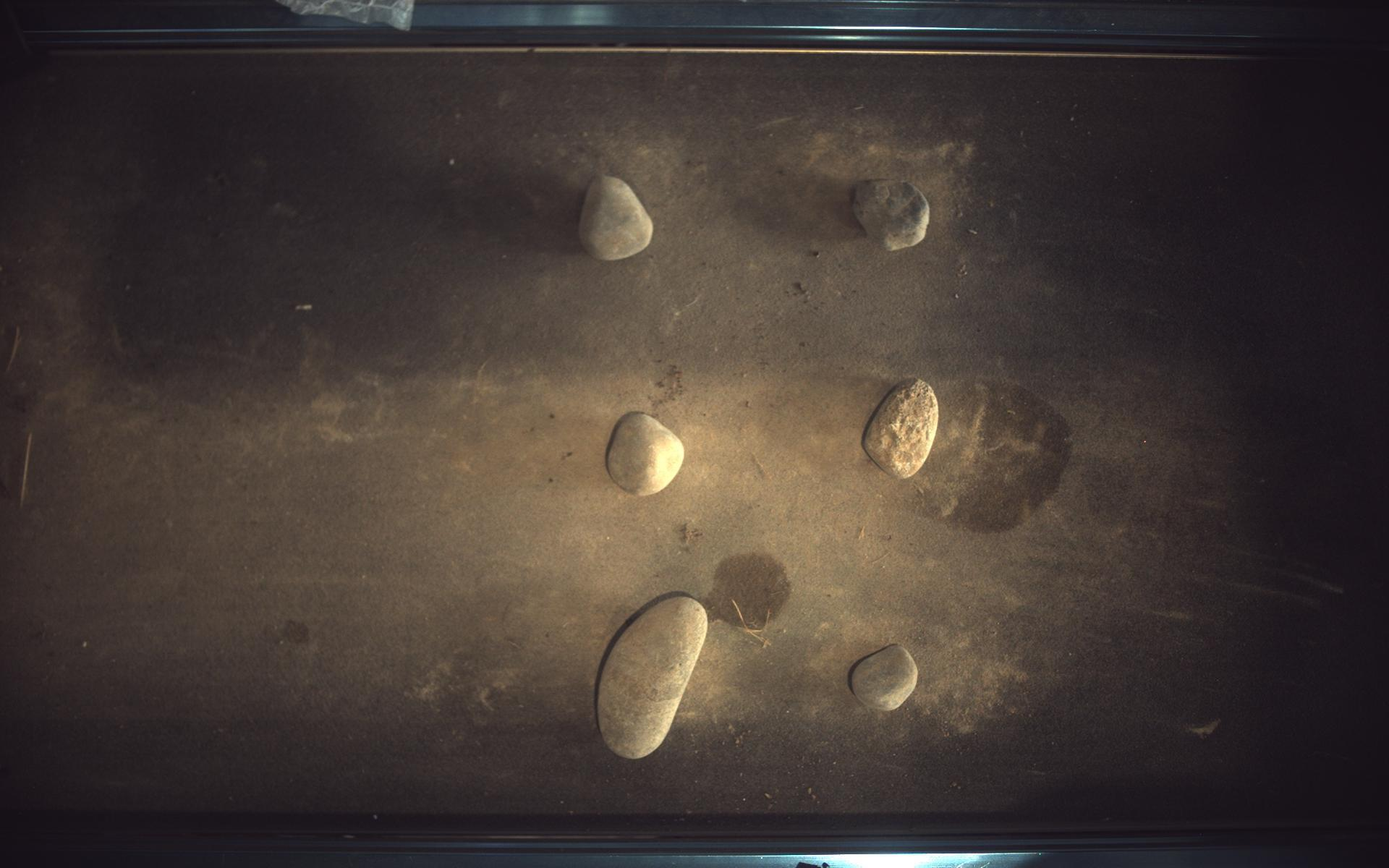stone: (595, 593, 708, 760), (865, 379, 940, 479), (607, 412, 685, 496), (579, 174, 654, 260), (854, 178, 931, 250), (850, 645, 919, 713)
